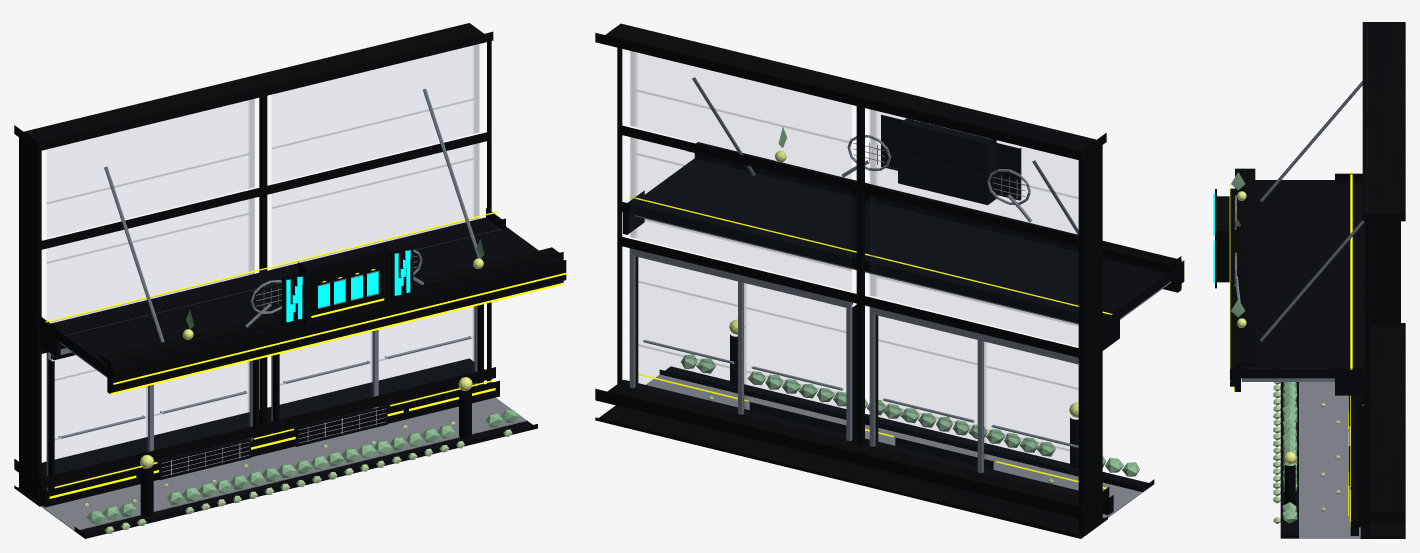
The model's file is tt_secondary_entrance_n.glb.
The picture shows the model from 3 angles, left to right: view 1: azimuth 30°, elevation 25°; view 2: azimuth 150°, elevation 25°; view 3: azimuth 270°, elevation 25°; orthographic projection. The views are drawn at different scales.
Visible parts, largest first — view 1: Frame, Canopy, Fascia_Gunmetal, Threshold_Mat, Hedge_Edge, Terrace_Kerb, Kick_Panels, Fascia_Slate, Court_Line_LED, Scoreboard, Scoreboard_Well, Door_Stiles (+15 smaller); view 2: Frame, Canopy, Door_Stiles, Scoreboard, Terrace_Kerb, Threshold_Mat, Hedge_Edge, Fascia_Slate, Fascia_Gunmetal, Glass_Upper_10, Glass_Upper_00, Glyph_Plaque (+13 smaller); view 3: Frame, Canopy, Threshold_Mat, Fascia_Gunmetal, Hedge_Edge, Terrace_Kerb, Scoreboard, Tie_Rods, Court_Line_LED, Hedge_Edge_Light, Ball_Bollards, Canopy_Soffit (+2 smaller).
Part boxes in pixels (box(x1,y1,x2,y2)): Frame: box(14, 23, 499, 507); Canopy: box(39, 208, 538, 375); Fascia_Gunmetal: box(99, 247, 566, 390); Threshold_Mat: box(41, 397, 527, 530); Hedge_Edge: box(86, 409, 518, 524); Terrace_Kerb: box(74, 421, 537, 538); Kick_Panels: box(159, 405, 387, 479); Fascia_Slate: box(107, 255, 563, 393); Court_Line_LED: box(45, 211, 566, 394); Scoreboard: box(298, 243, 390, 324); Scoreboard_Well: box(310, 254, 383, 317); Door_Stiles: box(46, 306, 477, 490); Frame: box(595, 23, 1113, 538); Canopy: box(622, 158, 1177, 350); Door_Stiles: box(629, 248, 1078, 473); Scoreboard: box(898, 118, 996, 205); Terrace_Kerb: box(659, 366, 1154, 491); Threshold_Mat: box(646, 374, 1142, 518); Hedge_Edge: box(681, 354, 1139, 476); Fascia_Slate: box(694, 153, 1181, 292); Fascia_Gunmetal: box(686, 142, 1184, 283); Glass_Upper_10: box(630, 137, 851, 270); Glass_Upper_00: box(870, 196, 1078, 326); Glyph_Plaque: box(882, 117, 1018, 198); Frame: box(1350, 22, 1405, 538); Canopy: box(1240, 173, 1363, 395); Threshold_Mat: box(1299, 382, 1359, 538); Fascia_Gunmetal: box(1230, 168, 1255, 386); Hedge_Edge: box(1282, 382, 1297, 523); Terrace_Kerb: box(1280, 382, 1299, 538); Scoreboard: box(1215, 196, 1229, 282); Tie_Rods: box(1260, 81, 1364, 341); Court_Line_LED: box(1229, 171, 1352, 392); Hedge_Edge_Light: box(1273, 382, 1280, 523); Ball_Bollards: box(1284, 464, 1295, 505); Canopy_Soffit: box(1241, 378, 1334, 381).
Size of what is drawn, in the model's own units: 8 by 6.1 by 3.26.
Materials: 12 (6 with a texture image).
